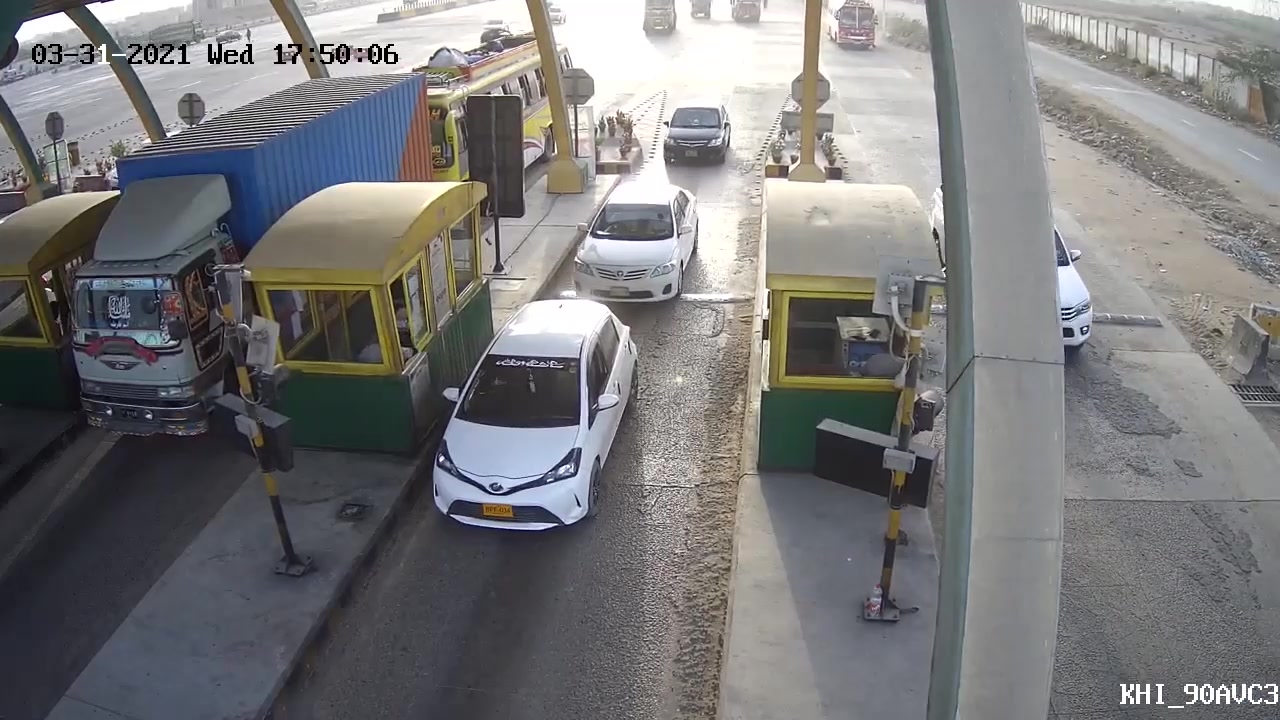F1: (404, 296, 646, 549), (567, 178, 705, 305), (662, 102, 736, 170)
